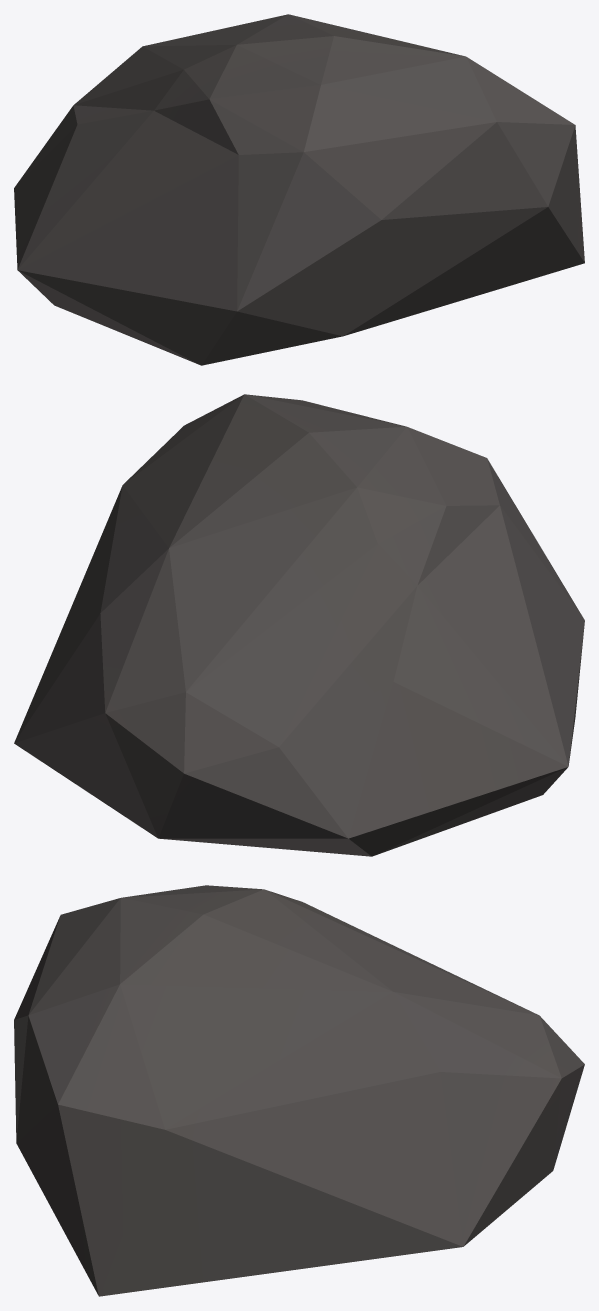
The model's file is Rock.fbx.
3 renders of one model, top to bottom at view 1: azimuth 30°, elevation 25°; view 2: azimuth 150°, elevation 25°; view 3: azimuth 270°, elevation 25°, orthographic. The views are drawn at different scales.
Parts seen in each view (by area): view 1: PM3D_Sphere3D_2; view 2: PM3D_Sphere3D_2; view 3: PM3D_Sphere3D_2.
Part boxes in pixels (box(x1,y1,x2,y2)): PM3D_Sphere3D_2: box(14, 14, 584, 365); PM3D_Sphere3D_2: box(14, 394, 584, 856); PM3D_Sphere3D_2: box(14, 885, 584, 1296).
Bounding box in the file's own units: 72.62 × 43.56 × 67.32.
